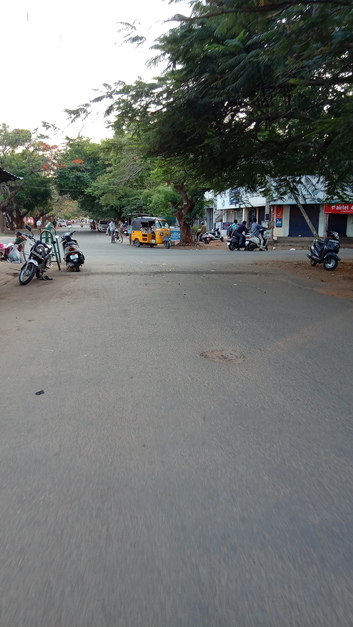bump: (70, 268, 276, 278)
